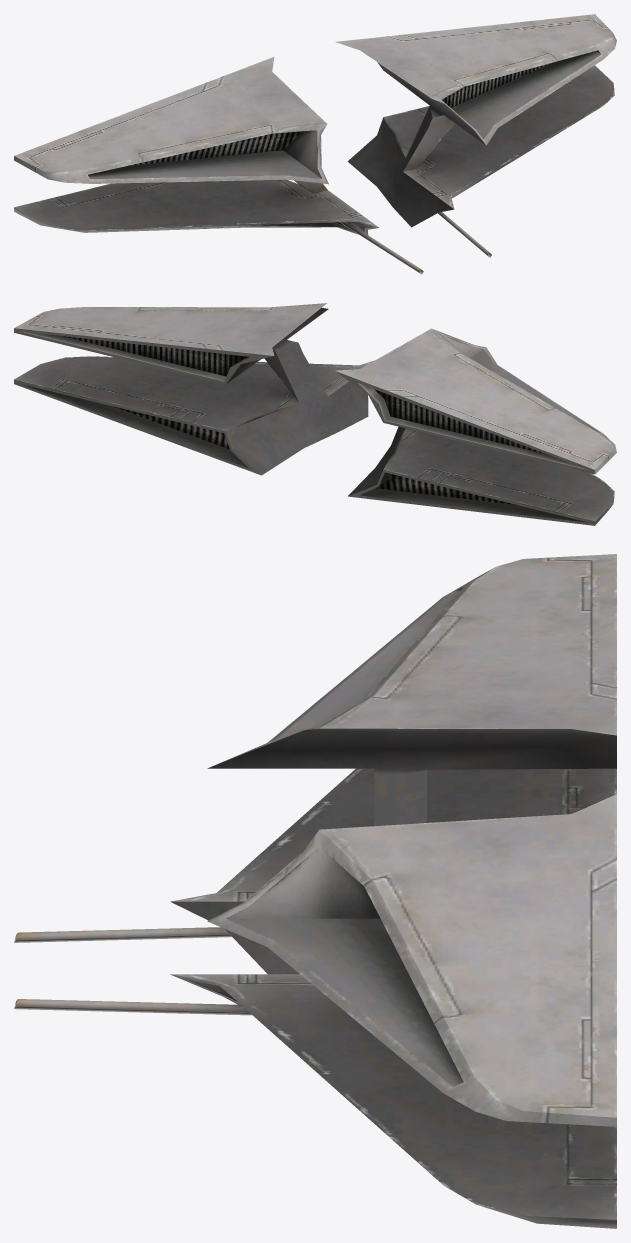
Rendered from hutt_fighter_heavy_struct_s02_l1.fbx.
3 views of the same model, one above another, from view 1: azimuth 30°, elevation 25°; view 2: azimuth 150°, elevation 25°; view 3: azimuth 270°, elevation 25° (orthographic). The views are drawn at different scales.
Parts seen in each view (by area): view 1: mesh_node; view 2: mesh_node; view 3: mesh_node.
Part boxes in pixels (x1=…): mesh_node: x1=14, y1=14, x2=616, y2=274; mesh_node: x1=14, y1=303, x2=616, y2=525; mesh_node: x1=14, y1=554, x2=616, y2=1228.
Size of the model in its own units: 28.24 by 5.7 by 12.76.
